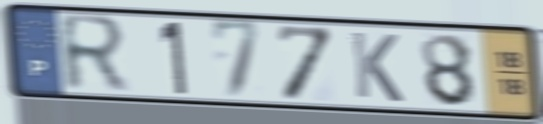1: (157, 19, 190, 97)
7: (275, 23, 334, 104), (208, 18, 262, 104)
8: (418, 32, 477, 109)
K: (347, 29, 406, 106)
R: (56, 11, 133, 96)
